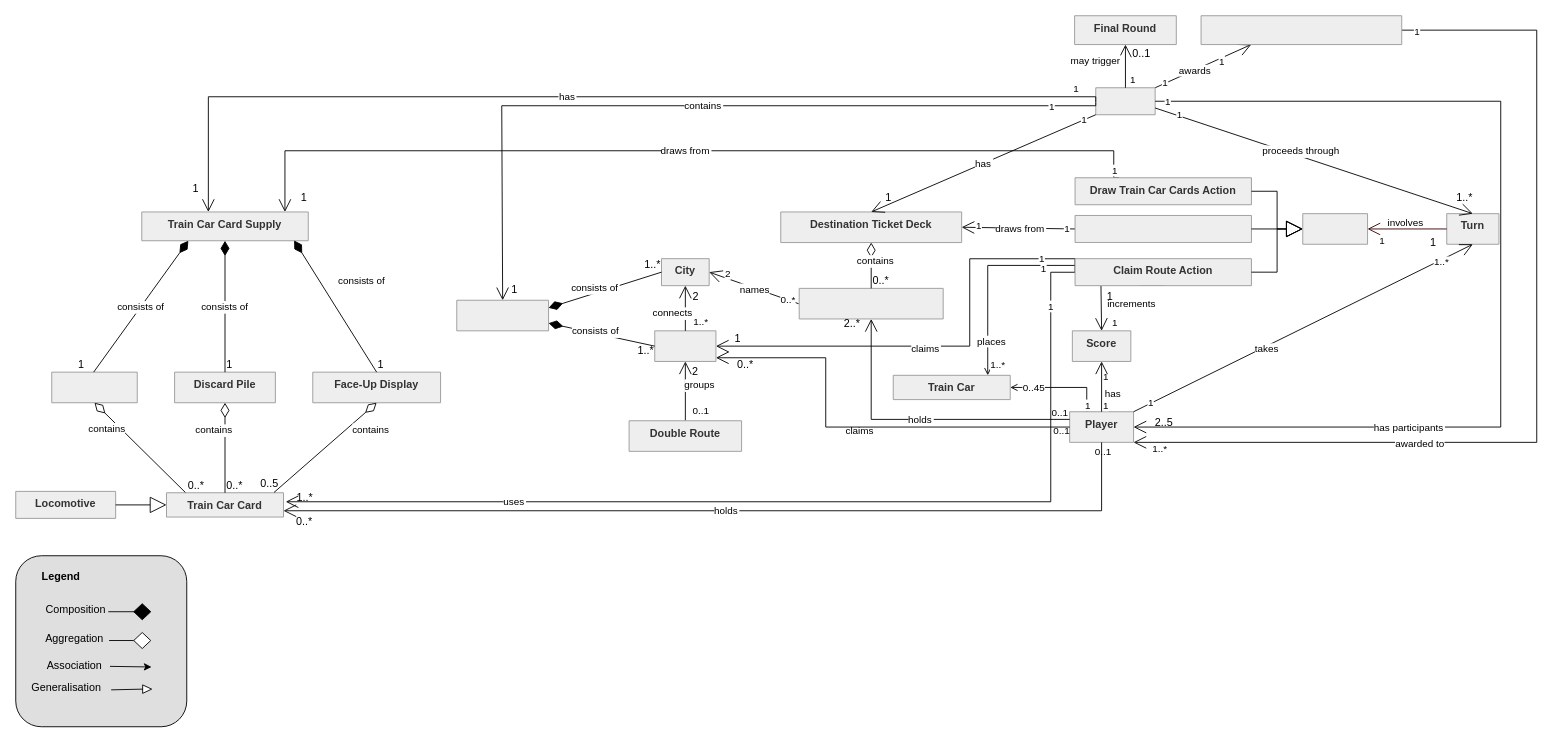
This 1565x743 diagram has some shape labels left out. The shapes that lost their labels are listed below. From the top down, each one's centre as x and y in pixels, then its label:
At pixel 1301 30: "Longest Continuous Path Bonus".
At pixel 1125 101: "Game".
At pixel 1162 228: "Draw Destination Tickets Action".
At pixel 1335 228: "Action".
At pixel 502 315: "Board Map".
At pixel 870 303: "Destination Ticket".
At pixel 685 345: "Route".
At pixel 94 387: "Draw Pile".
